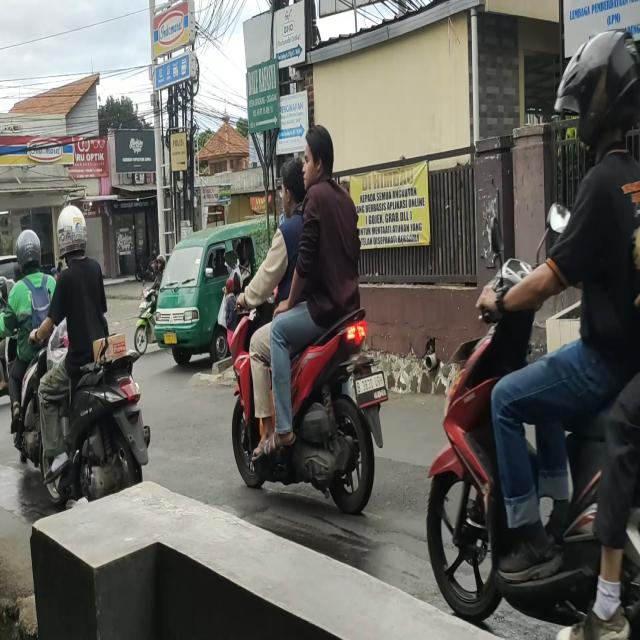helmet: (570, 38, 640, 146), (59, 208, 90, 257), (17, 230, 44, 278)
no-helmet: (303, 126, 334, 183), (280, 158, 306, 209)
